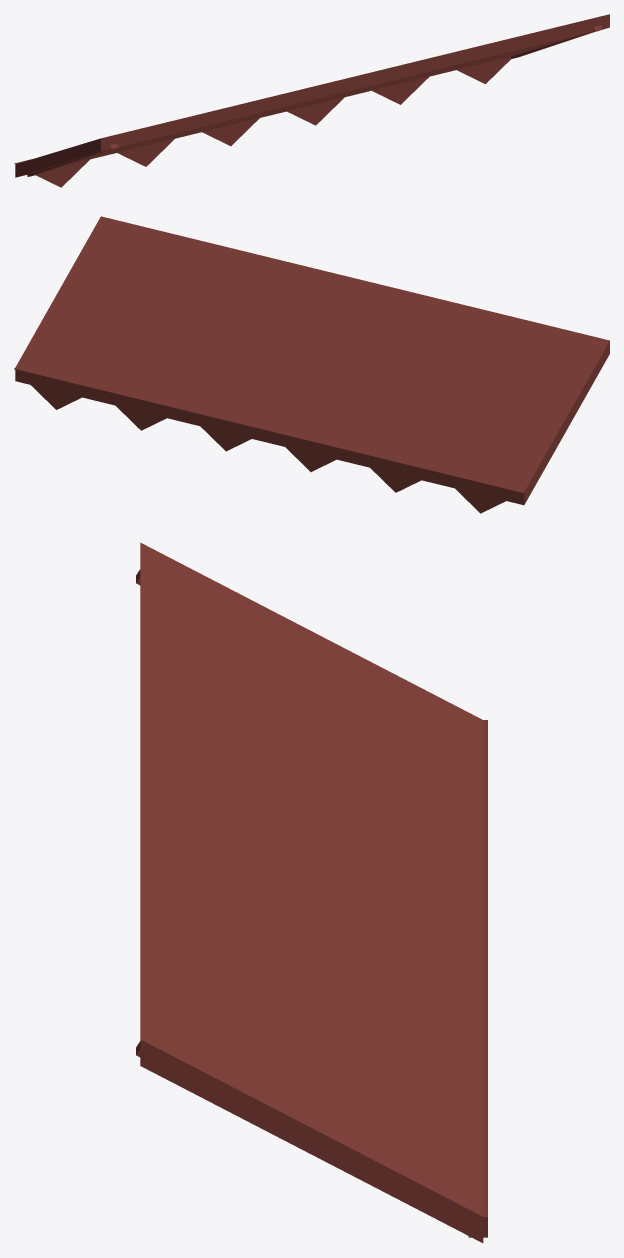
Rendered from awning_w12.fbx.
The picture shows the model from 3 angles, top to bottom: view 1: azimuth 30°, elevation 25°; view 2: azimuth 150°, elevation 25°; view 3: azimuth 270°, elevation 25°; orthographic projection. The views are drawn at different scales.
Visible parts, largest first — view 1: awning_w12; view 2: awning_w12; view 3: awning_w12.
Part boxes in pixels (<box>): awning_w12: <box>14,14,609,187</box>; awning_w12: <box>14,216,609,513</box>; awning_w12: <box>136,542,487,1242</box>.
Size of the model in its own units: 1200 by 270 by 360.
